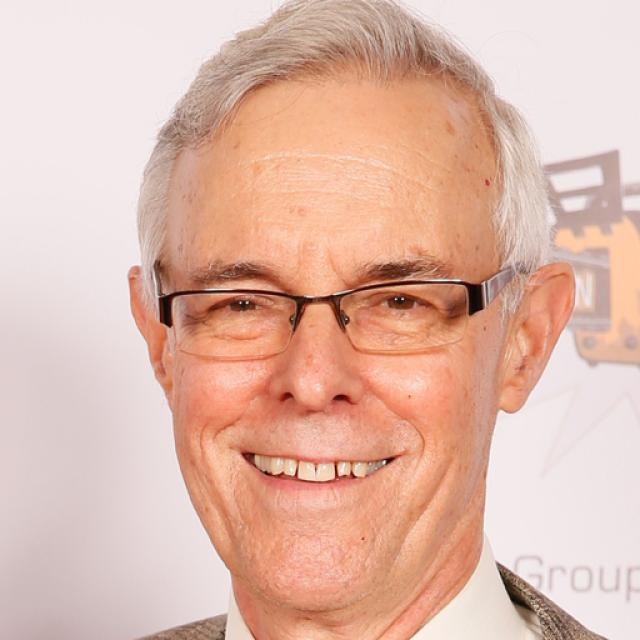Acne: (289, 203, 314, 221), (377, 181, 401, 199)
Wrinkle: (237, 147, 434, 193)
